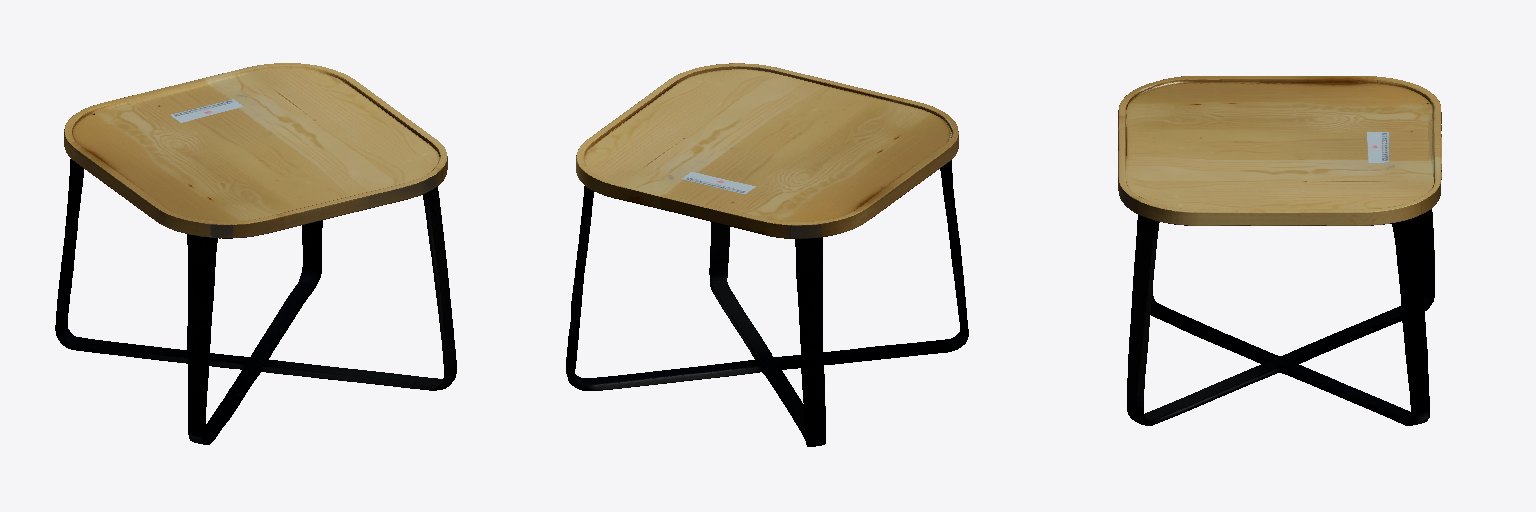
3 views of the same model, side by side, from view 1: azimuth 30°, elevation 25°; view 2: azimuth 150°, elevation 25°; view 3: azimuth 270°, elevation 25° (orthographic).
Parts seen in each view (by area): view 1: geometry_0; view 2: geometry_0; view 3: geometry_0.
Boxes of the visible parts, x1=… form: geometry_0: x1=55, y1=63, x2=456, y2=444; geometry_0: x1=566, y1=63, x2=968, y2=446; geometry_0: x1=1118, y1=76, x2=1441, y2=425.
Bounding box in the file's own units: 1 × 0.7648 × 0.9978.
1 materials, 1 textured.